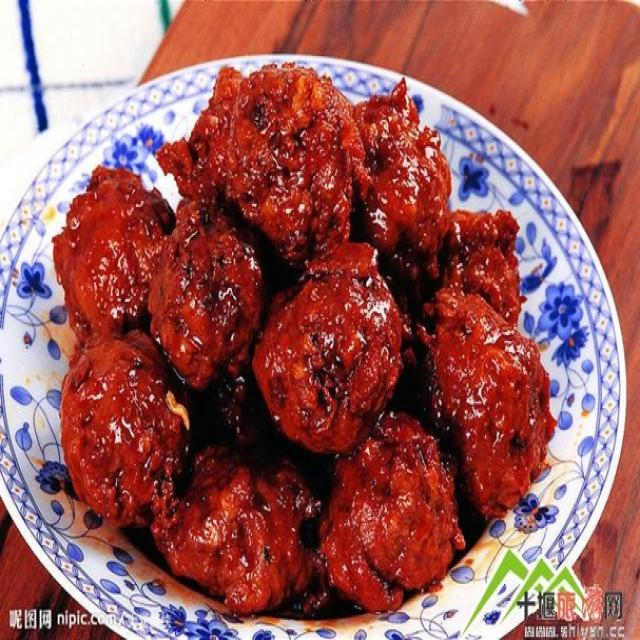Meatball: (414, 282, 560, 523), (248, 238, 406, 455), (311, 402, 466, 610), (211, 58, 367, 260), (45, 326, 193, 522), (40, 159, 180, 355), (138, 185, 273, 385)
